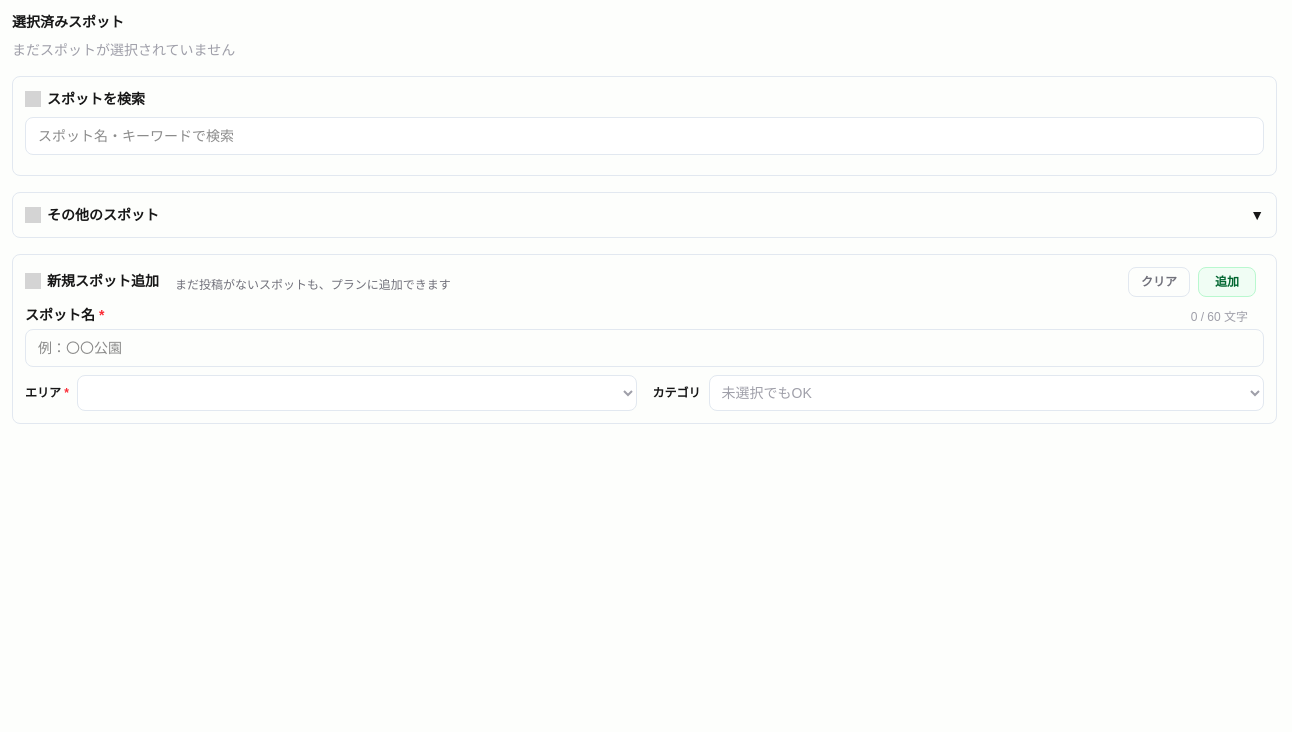
SpotPicker（GATE-22フォローアップ: 無限スクロール対応） › その他のスポット_開くと初回取得し、sentinelの自動発火で次ページも継続取得する
The image size is (1292, 732).
What coordinates should you click on to do the following:
click the button "その他のスポット ▼"
I would click on:
 (103, 215)
Its box is [13,193,1276,237].
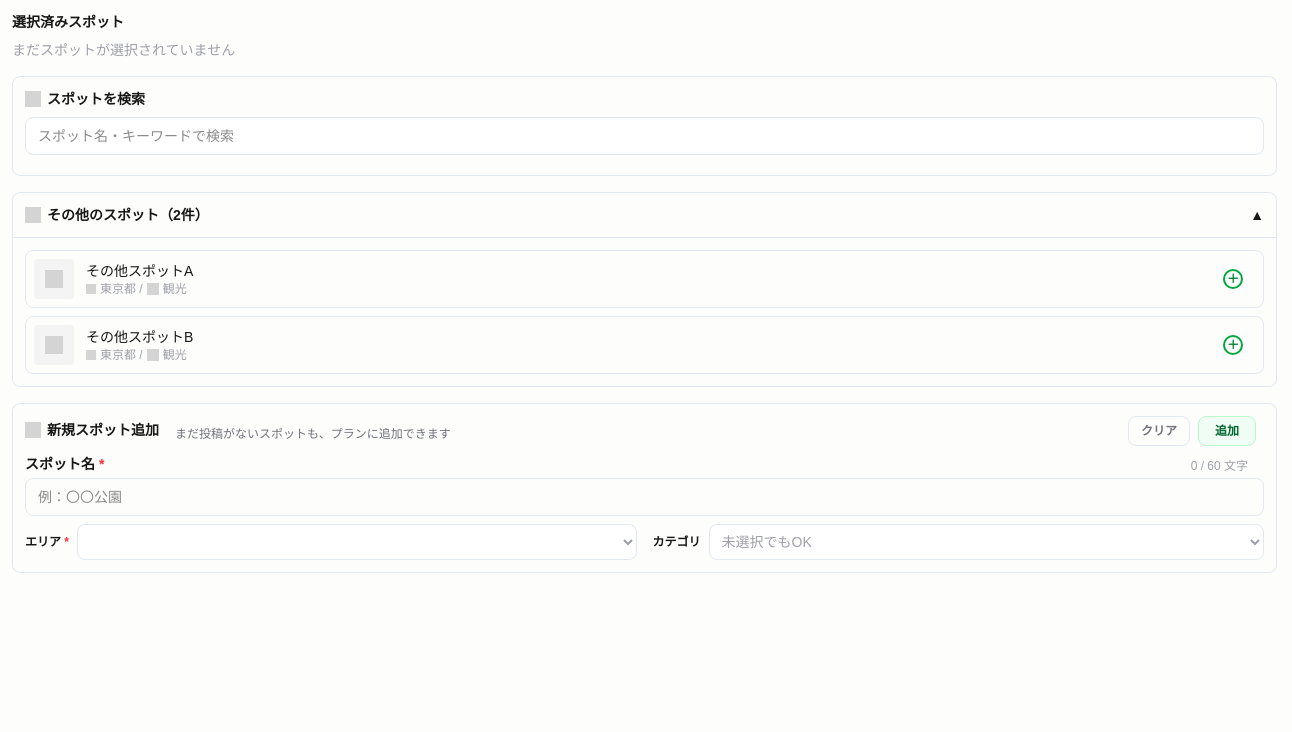
Check: the text "その他スポットA" is shown, box [86,263,193,279]
Check: the text "その他スポットB" is shown, box [86,329,193,345]
